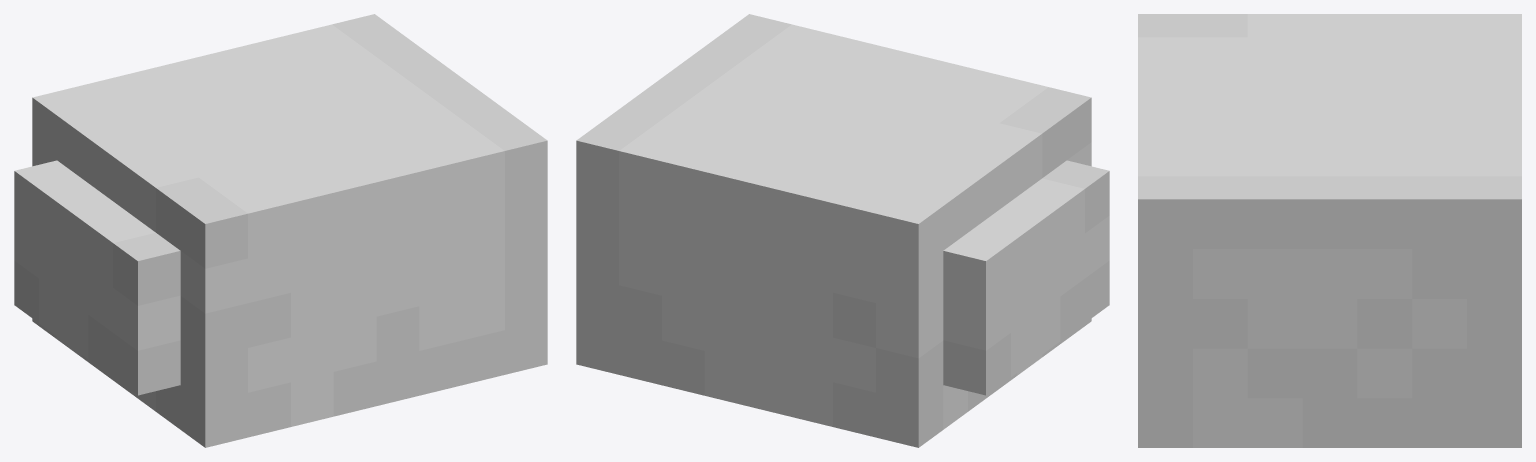
The model's file is Animals-51.obj.
3 views of the same model, side by side, from view 1: azimuth 30°, elevation 25°; view 2: azimuth 150°, elevation 25°; view 3: azimuth 270°, elevation 25° (orthographic). The views are drawn at different scales.
Size of the model in its own units: 0.9 by 0.5 by 0.7.
1 material, 1 textured.
